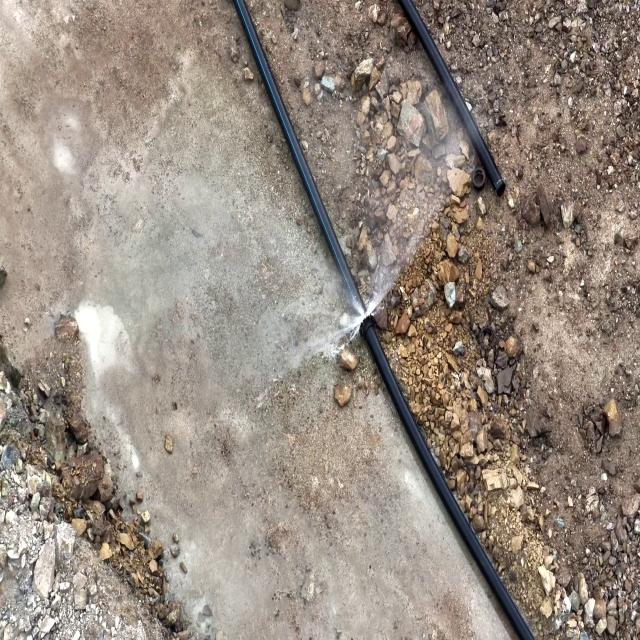leak: (282, 212, 427, 372)
